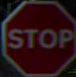Stop: (5, 0, 73, 72)
